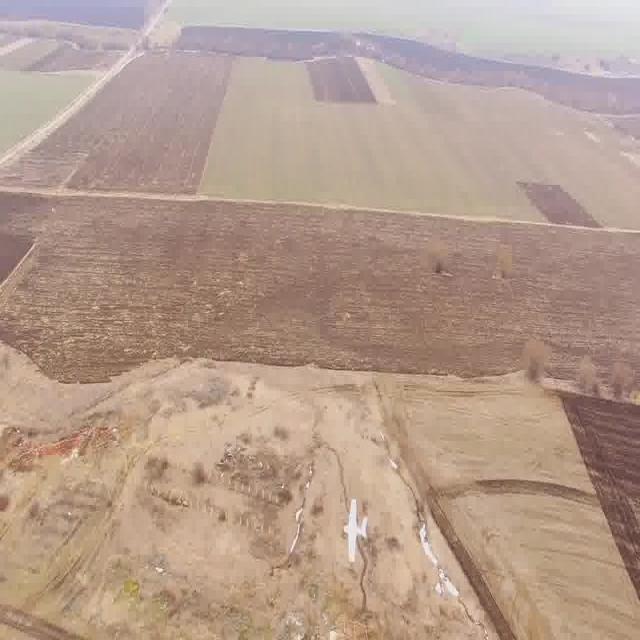iha: (327, 524, 378, 544)
